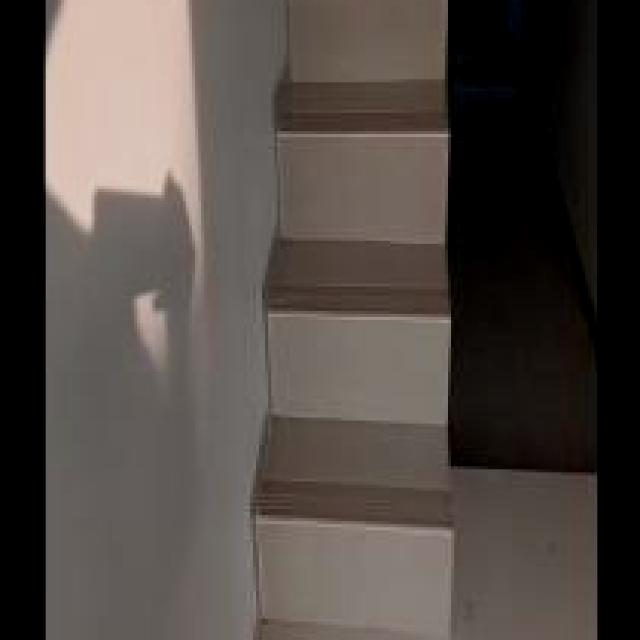upstair: (257, 65, 467, 640)
